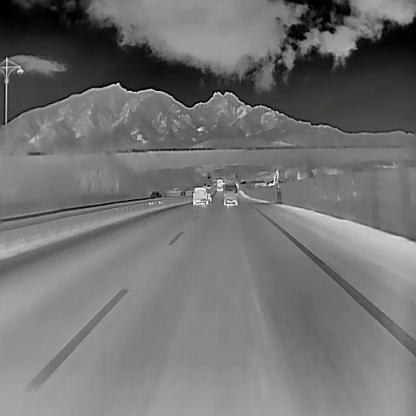car: (222, 182, 238, 206), (191, 185, 207, 206), (147, 190, 162, 203), (215, 177, 223, 191), (179, 189, 187, 201), (205, 190, 212, 202)
